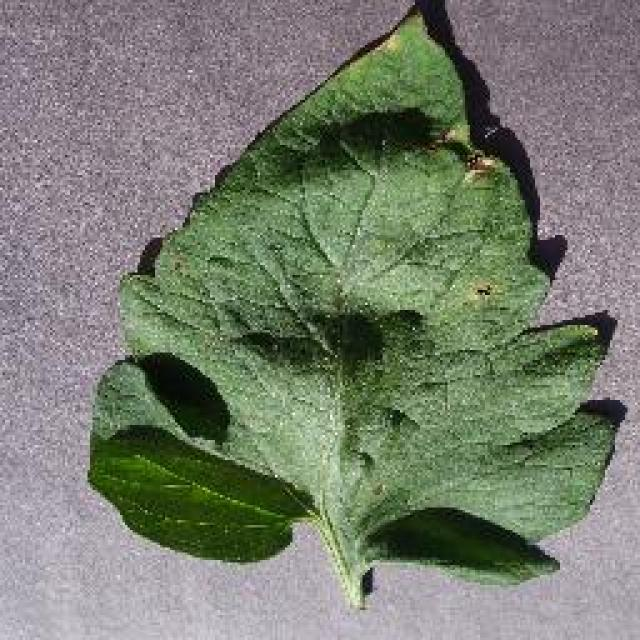Tomato___Target_Spot: (88, 10, 615, 608)
